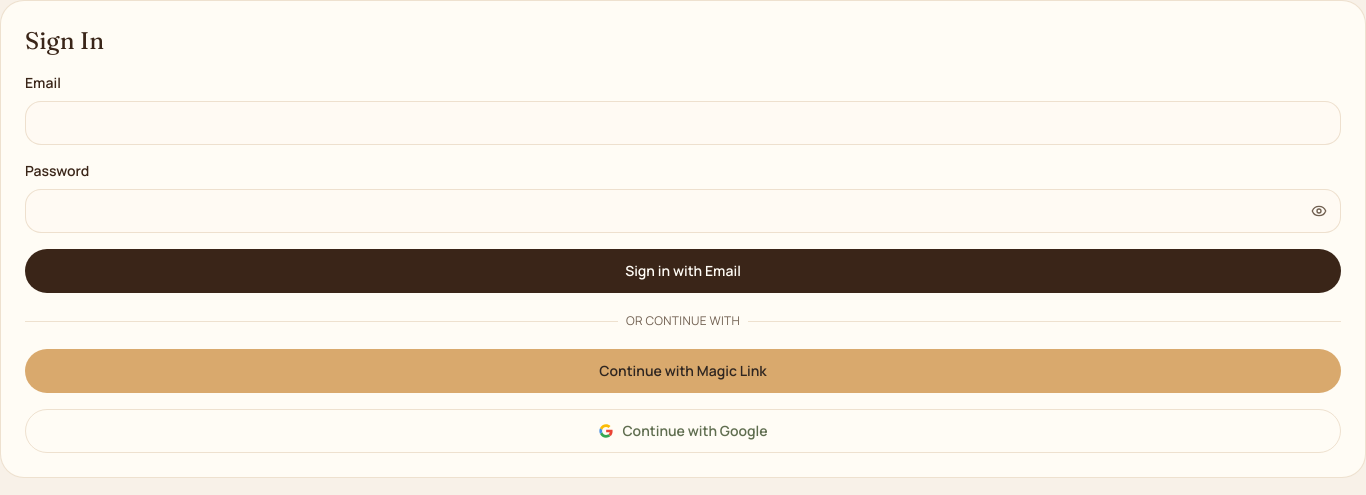
LoginForm › uses a single form and toggles to magic-link mode with only email field
Check: the password field labelled "Password" is shown, box x1=25 y1=189 x2=1341 y2=233
What coordinates should you click on to do the following:
click the button "Continue with Magic Link"
I would click on:
 (683, 371)
Its box is x1=25 y1=349 x2=1341 y2=393.
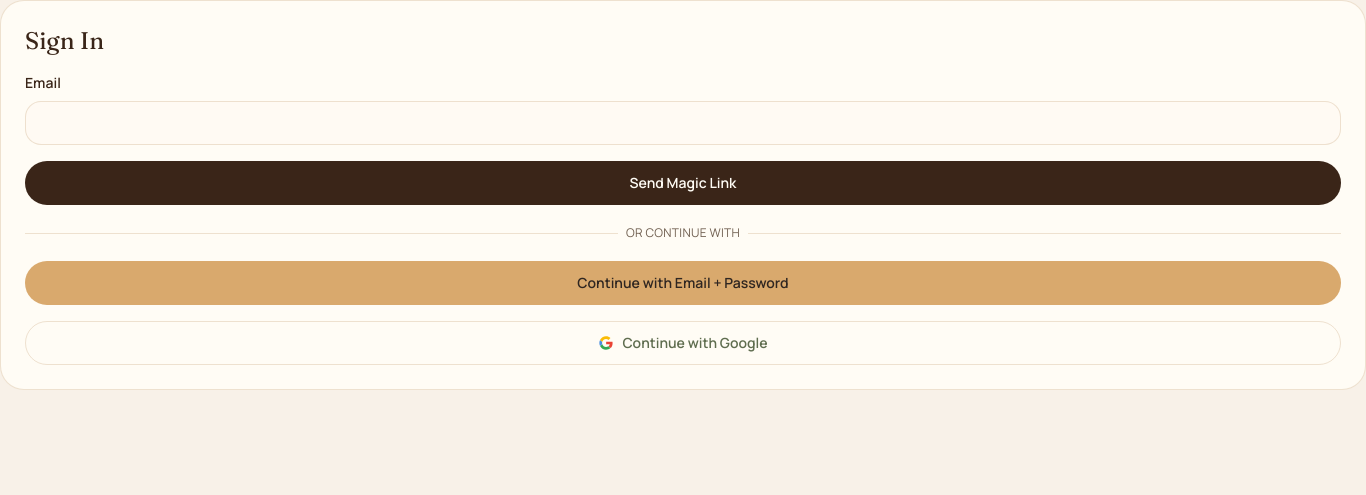
Check: the button "Send Magic Link" is shown, box x1=25 y1=161 x2=1341 y2=205
